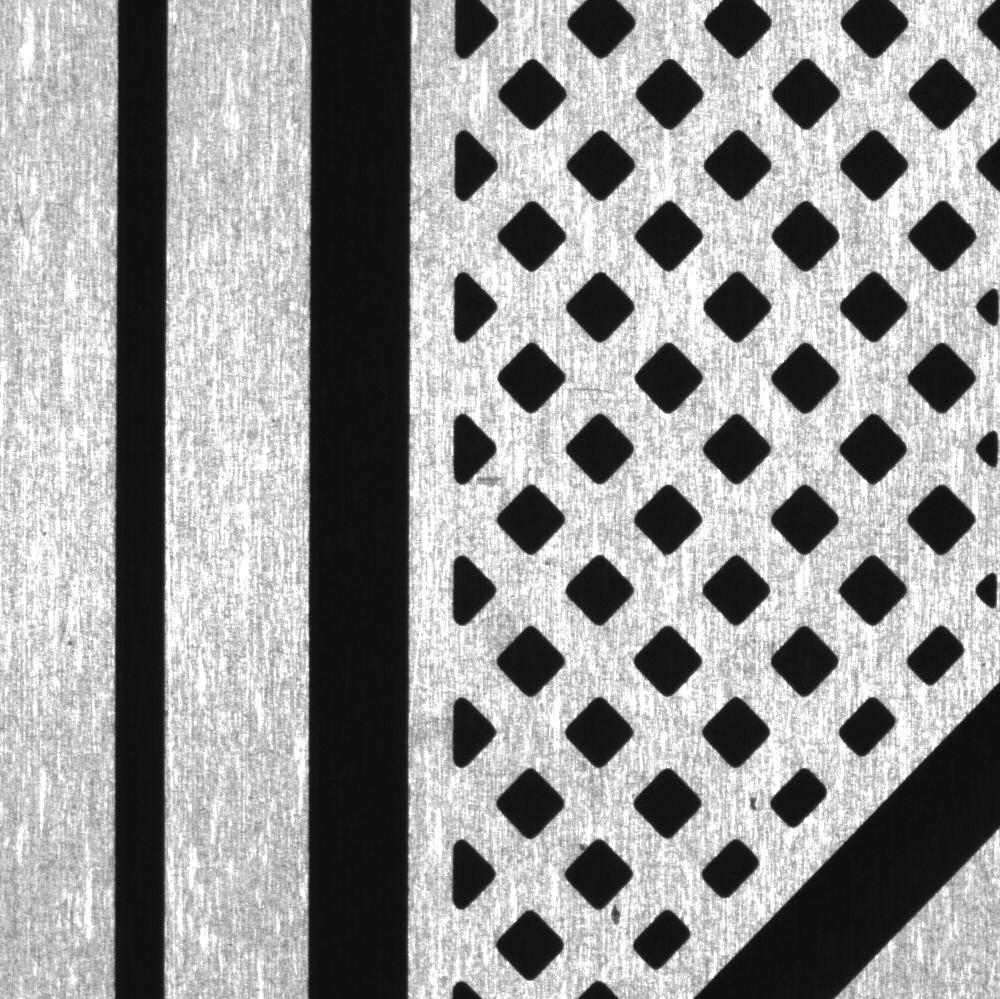Etching: (58, 632, 82, 654)
Scar: (566, 378, 623, 400)
